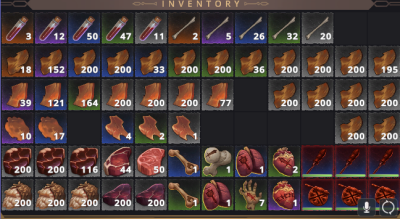blood: (2, 12, 34, 43), (135, 12, 167, 43), (67, 13, 100, 43), (101, 13, 134, 43), (37, 13, 66, 43)
bone: (235, 13, 266, 44), (168, 13, 200, 43), (202, 13, 234, 43), (268, 13, 300, 43), (301, 13, 333, 43)
durable hide: (268, 45, 301, 78), (368, 45, 400, 77), (334, 111, 366, 143), (1, 46, 34, 77), (134, 47, 167, 78), (102, 46, 133, 78), (302, 46, 334, 77), (268, 78, 300, 109), (368, 79, 400, 110), (67, 47, 100, 77), (202, 47, 233, 78), (335, 46, 366, 77), (335, 79, 366, 110), (235, 47, 266, 77), (303, 79, 333, 110), (369, 113, 400, 143), (36, 47, 66, 77), (169, 47, 199, 77)
soft hide: (3, 112, 33, 142), (36, 112, 65, 142)
strong hide: (2, 79, 34, 109), (69, 80, 100, 109), (37, 79, 66, 109), (102, 80, 132, 109), (170, 79, 199, 109), (203, 80, 232, 109), (137, 80, 165, 110)
tough hide: (135, 111, 167, 142), (103, 112, 132, 142), (169, 113, 198, 142)
